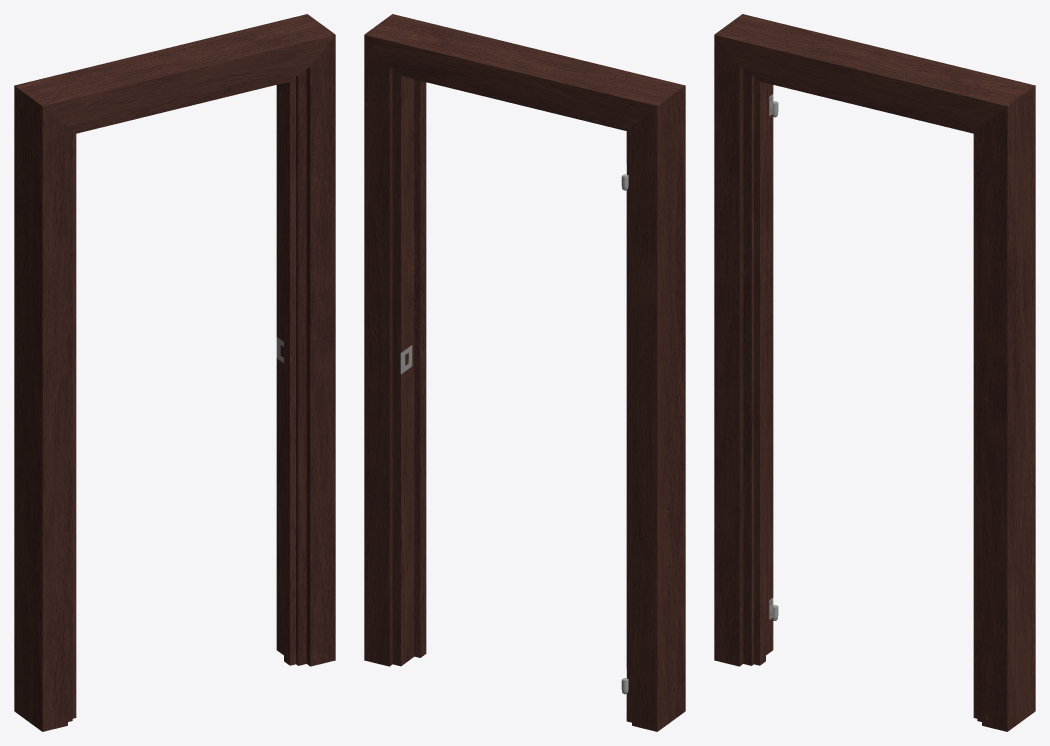
Rendered from DoorFrame.fbx.
3 views of the same model, side by side, from view 1: azimuth 30°, elevation 25°; view 2: azimuth 150°, elevation 25°; view 3: azimuth 330°, elevation 25° (orthographic).
Visible parts, largest first — view 1: D2-Frame.001; view 2: D2-Frame.001; view 3: D2-Frame.001.
Boxes of the visible parts, x1,y1,x2,y2 form: D2-Frame.001: (14,14,335,731); D2-Frame.001: (364,14,685,731); D2-Frame.001: (714,14,1035,731).
Bounding box in the file's own units: 107 × 218 × 17.91.
1 material, 1 textured.
